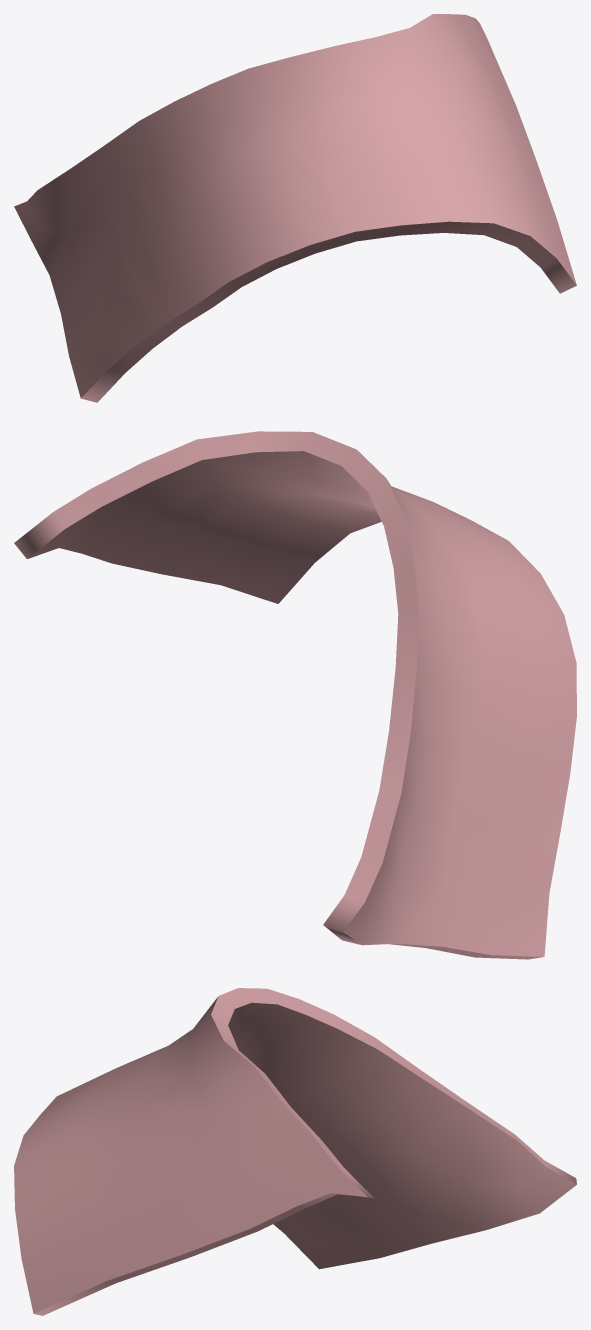
The picture shows the model from 3 angles, top to bottom: view 1: azimuth 30°, elevation 25°; view 2: azimuth 150°, elevation 25°; view 3: azimuth 270°, elevation 25°; orthographic projection. The views are drawn at different scales.
Parts seen in each view (by area): view 1: ZA_3febe45a7b20e361; view 2: ZA_3febe45a7b20e361; view 3: ZA_3febe45a7b20e361.
Boxes of the visible parts, x1,y1,x2,y2 form: ZA_3febe45a7b20e361: (14,14,576,402); ZA_3febe45a7b20e361: (14,431,576,959); ZA_3febe45a7b20e361: (14,988,576,1315).
Size of the model in its own units: 0.0757 by 0.0596 by 0.0809.
